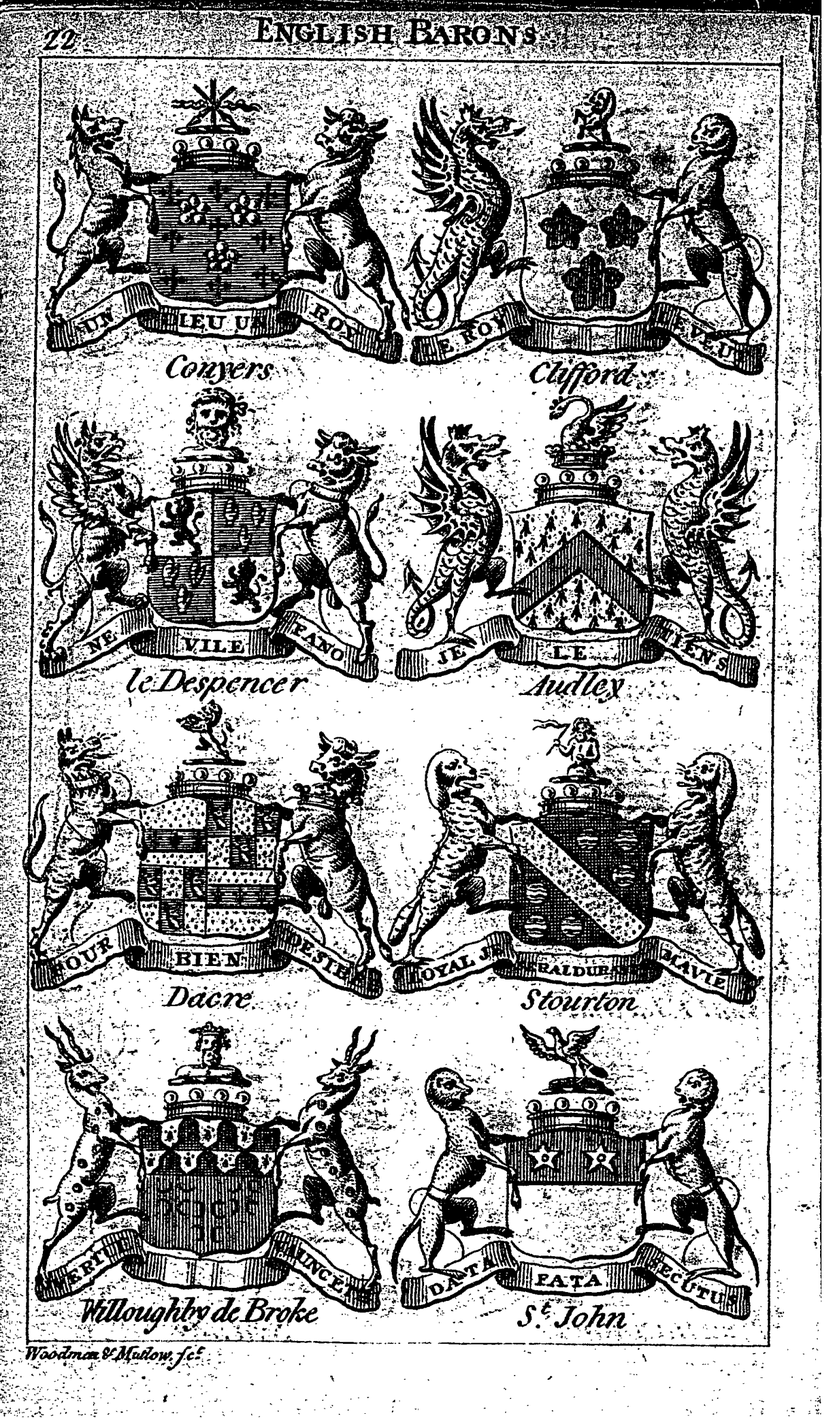coat_of_arms: (396, 1013, 765, 1333), (43, 73, 404, 400), (414, 70, 769, 399), (396, 705, 762, 1024), (33, 700, 394, 1019), (392, 396, 766, 703), (33, 1021, 393, 1328), (36, 391, 388, 703)
